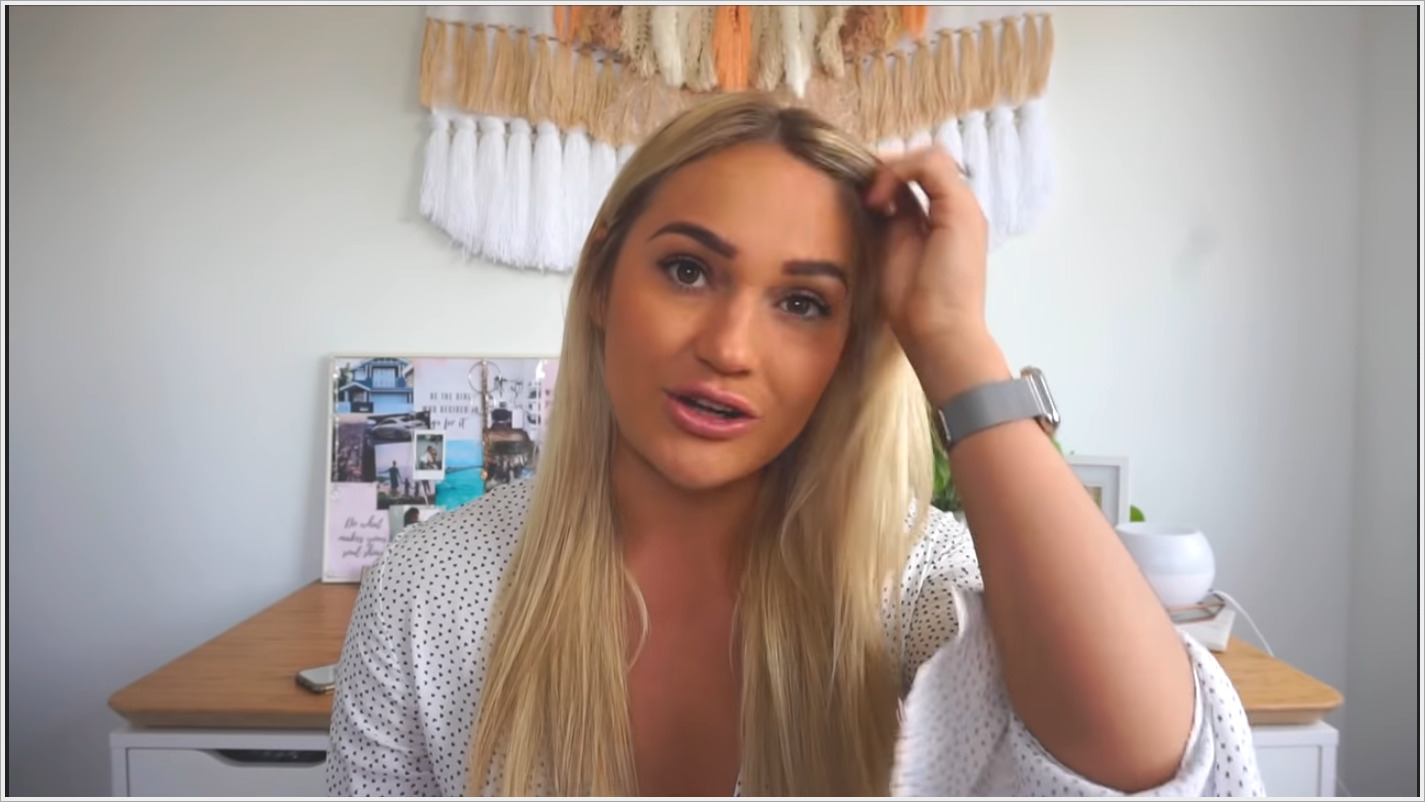hand: (870, 143, 997, 345)
